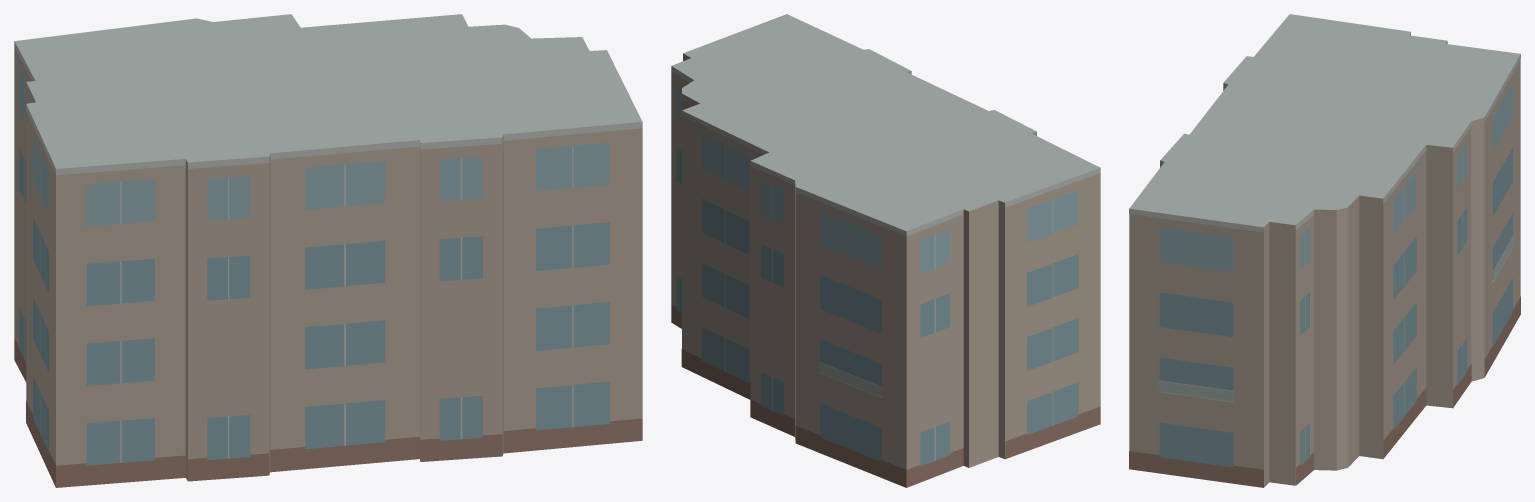
Rendered from survey-upis-32461522.glb.
3 views of the same model, side by side, from view 1: azimuth 30°, elevation 25°; view 2: azimuth 150°, elevation 25°; view 3: azimuth 270°, elevation 25° (orthographic). The views are drawn at different scales.
Visible parts, largest first — view 1: survey-upis-32461522.tmp; view 2: survey-upis-32461522.tmp; view 3: survey-upis-32461522.tmp.
Part boxes in pixels (x1,y1,x2,y2): survey-upis-32461522.tmp: (14, 14, 642, 487); survey-upis-32461522.tmp: (671, 14, 1100, 487); survey-upis-32461522.tmp: (1129, 14, 1520, 487).
Size of the model in its own units: 21.43 by 12.2 by 16.63.
